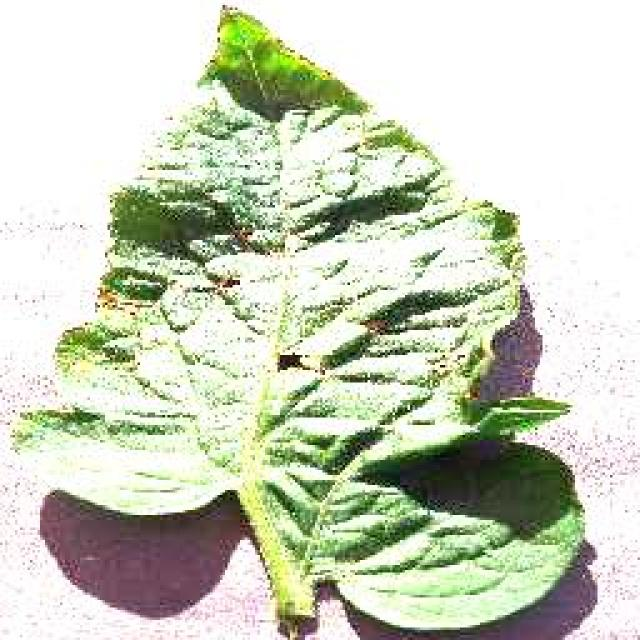Tomato___Target_Spot: (12, 8, 582, 630)
